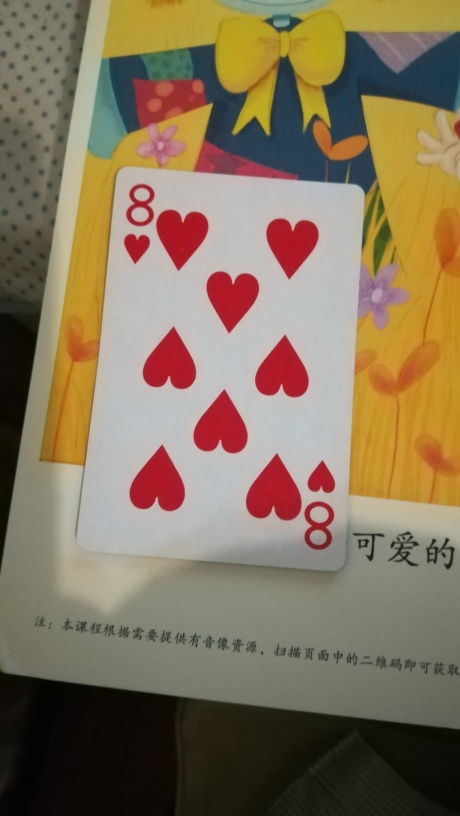hx 8: (75, 165, 364, 573)
